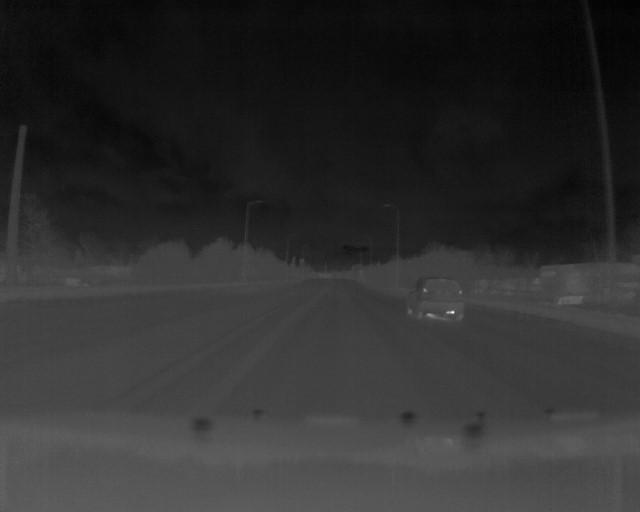car: (405, 277, 469, 325)
